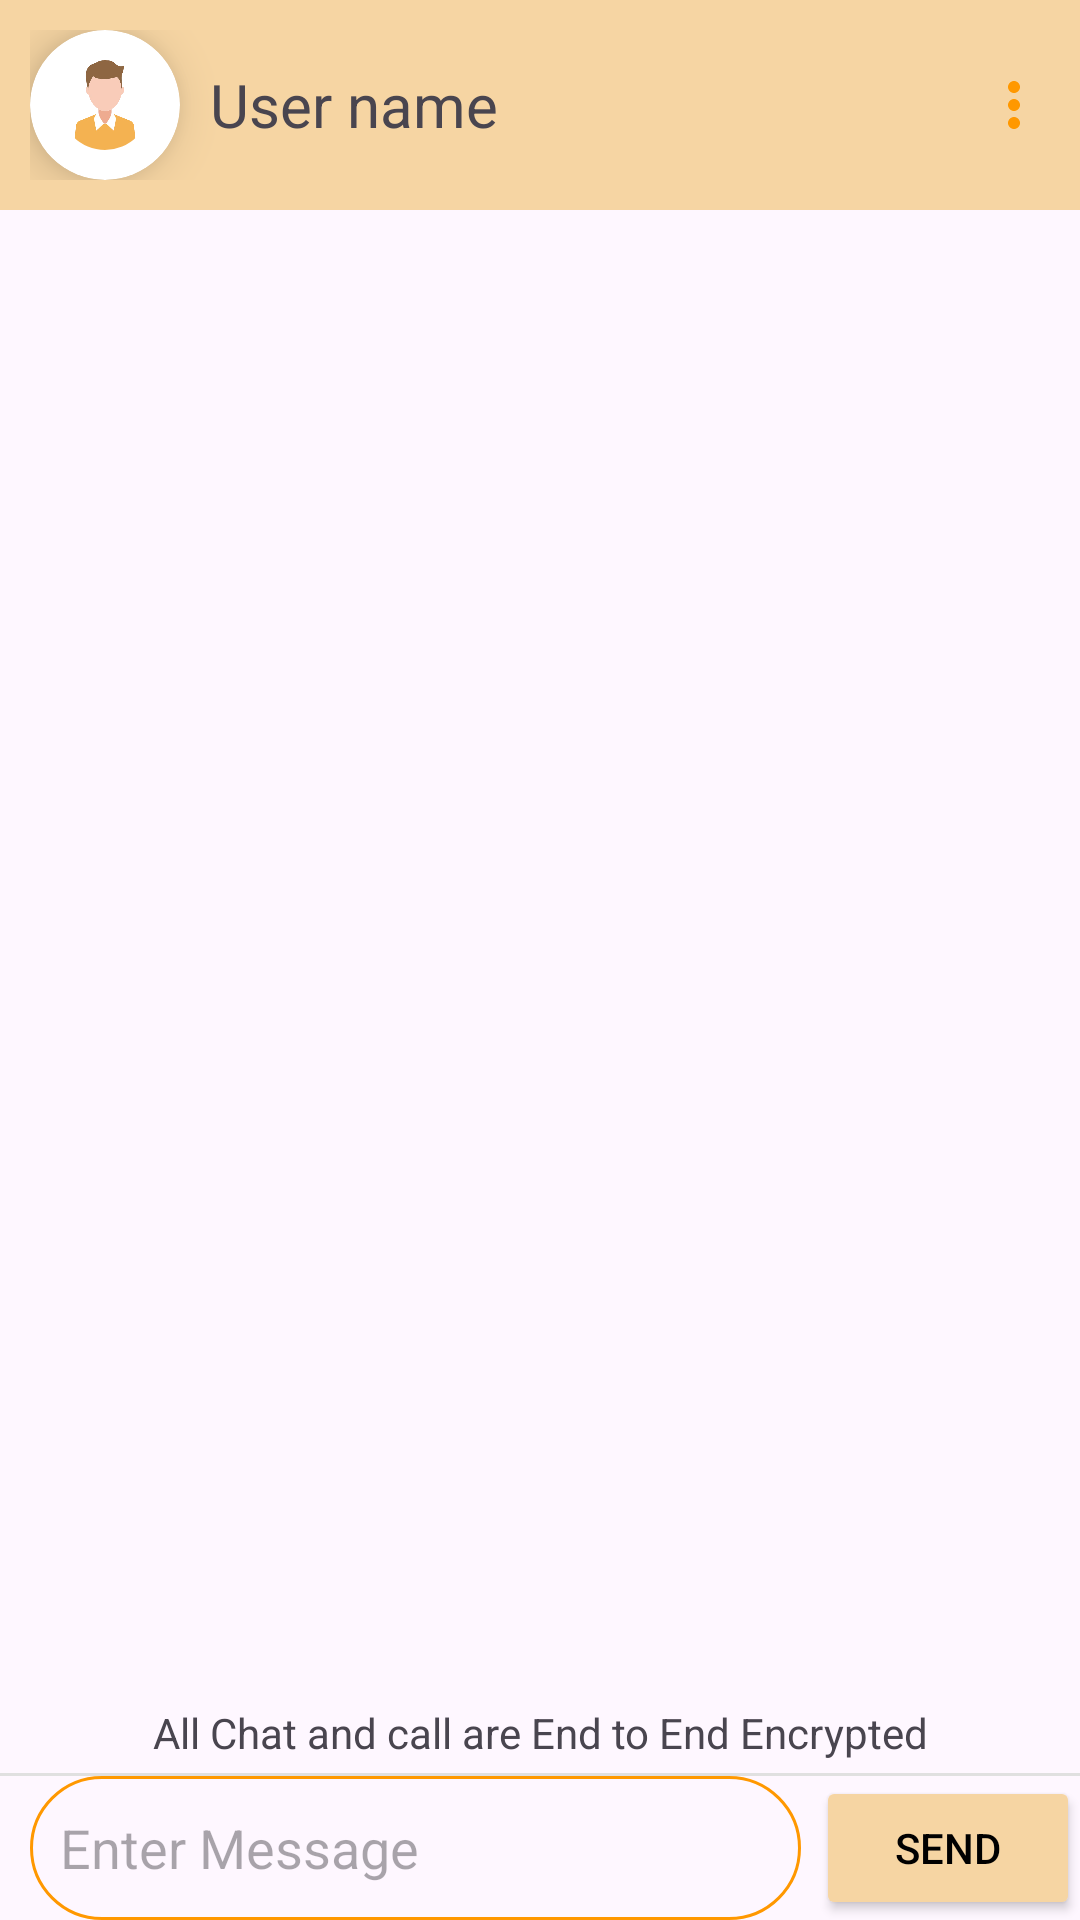

Where icons sit on this 1080px x 1920px app screen, as [x1=x1, y1=y1, x2=x2, y2=y2]:
more vert: [x1=1008, y1=81, x2=1020, y2=129]
